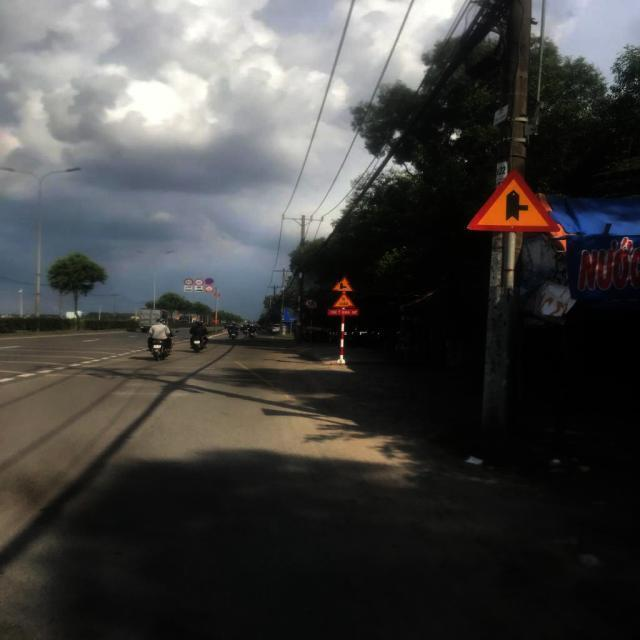207-giao-nhau-voi-duong-khong-uu-tien: (463, 165, 561, 234), (334, 274, 354, 294)
245-di-cham: (332, 292, 354, 309)
